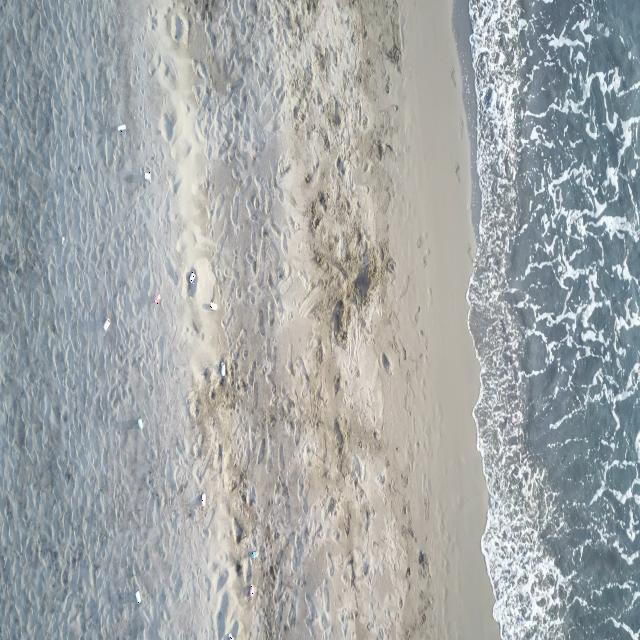Garbage: (187, 267, 196, 296), (219, 360, 226, 379), (103, 317, 110, 331), (136, 417, 143, 430), (208, 300, 216, 310), (188, 272, 195, 283), (247, 584, 253, 596), (144, 169, 150, 180), (116, 123, 124, 131), (154, 293, 160, 303), (136, 590, 140, 603), (249, 550, 256, 557), (201, 492, 204, 506), (227, 633, 232, 639), (60, 236, 64, 243)
